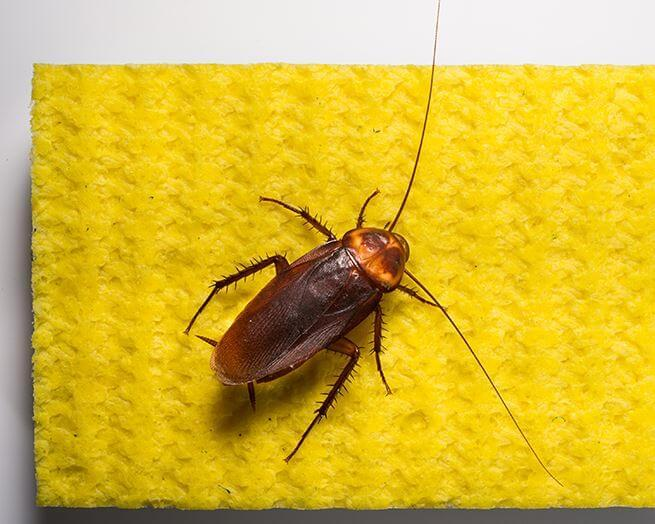cockroach: (208, 218, 410, 408)
